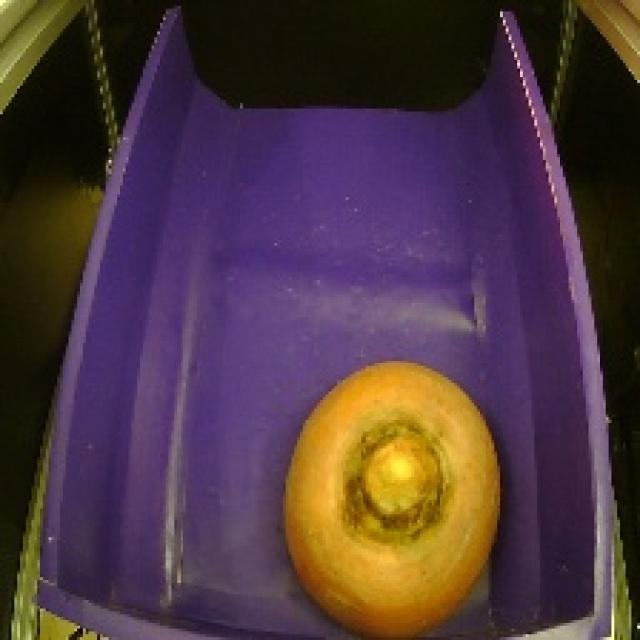carrots: (271, 354, 516, 640)
